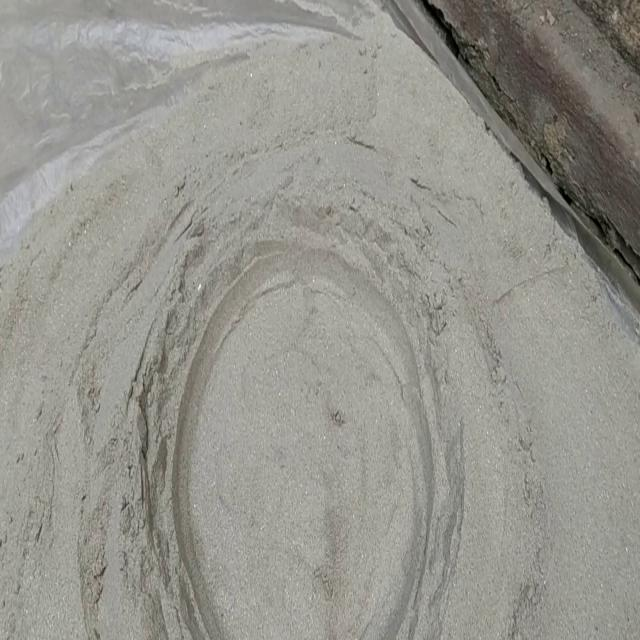C40: (143, 211, 449, 638)
